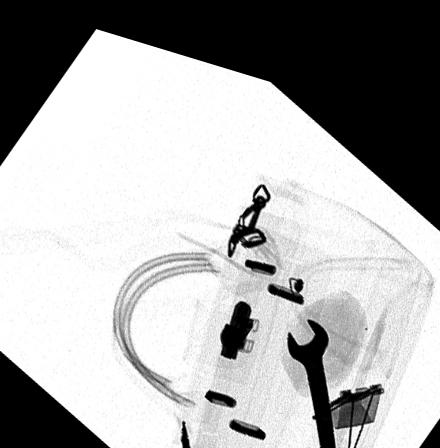Wrench: (284, 298, 344, 448)
